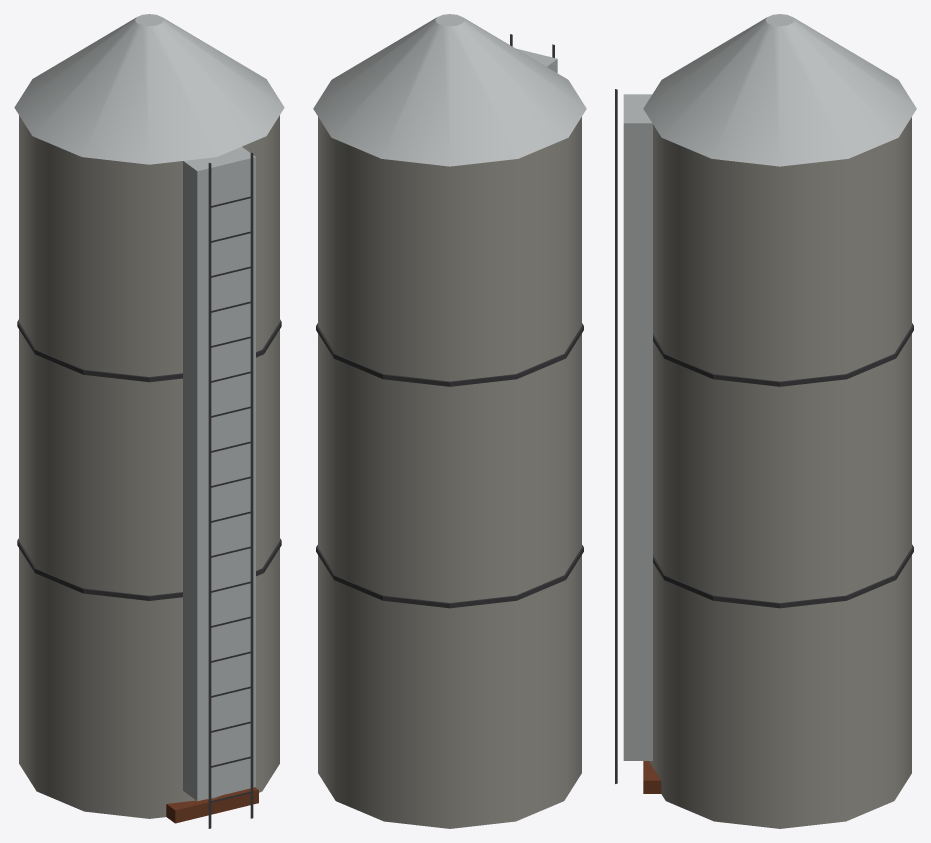
Rendered from silo.glb.
3 views of the same model, side by side, from view 1: azimuth 30°, elevation 25°; view 2: azimuth 150°, elevation 25°; view 3: azimuth 270°, elevation 25° (orthographic).
Visible parts, largest first — view 1: silo; view 2: silo; view 3: silo.
Part boxes in pixels (left/top/right/bottom): silo: left=14, top=14, right=284, bottom=828; silo: left=313, top=14, right=586, bottom=828; silo: left=615, top=14, right=916, bottom=828.
Bounding box in the file's own units: 2.8 × 8.5 × 3.09.
Materials: 1 (1 with a texture image).
